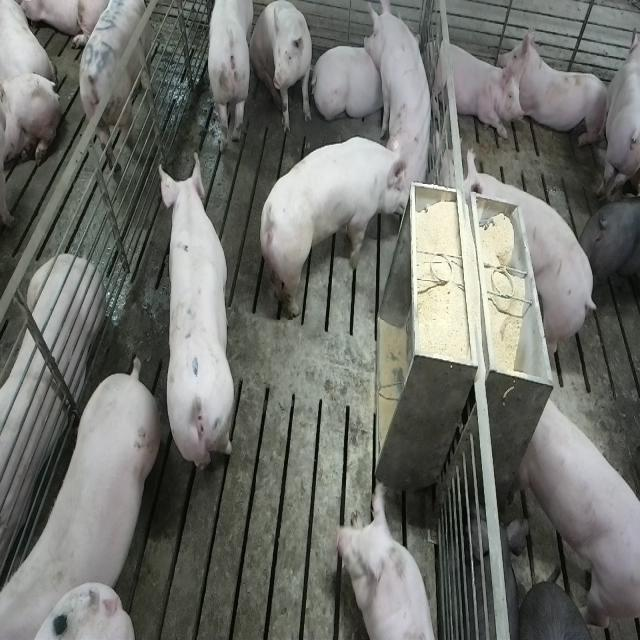Sitting: (366, 0, 436, 198), (251, 0, 314, 134)
Standing: (262, 128, 416, 322), (518, 393, 638, 632), (466, 158, 603, 364), (159, 153, 235, 480), (79, 0, 160, 190), (206, 2, 254, 152), (578, 194, 640, 306)
Sternal_lying: (0, 249, 102, 580), (336, 481, 439, 640), (502, 19, 611, 147), (427, 31, 522, 139), (315, 40, 387, 126)
